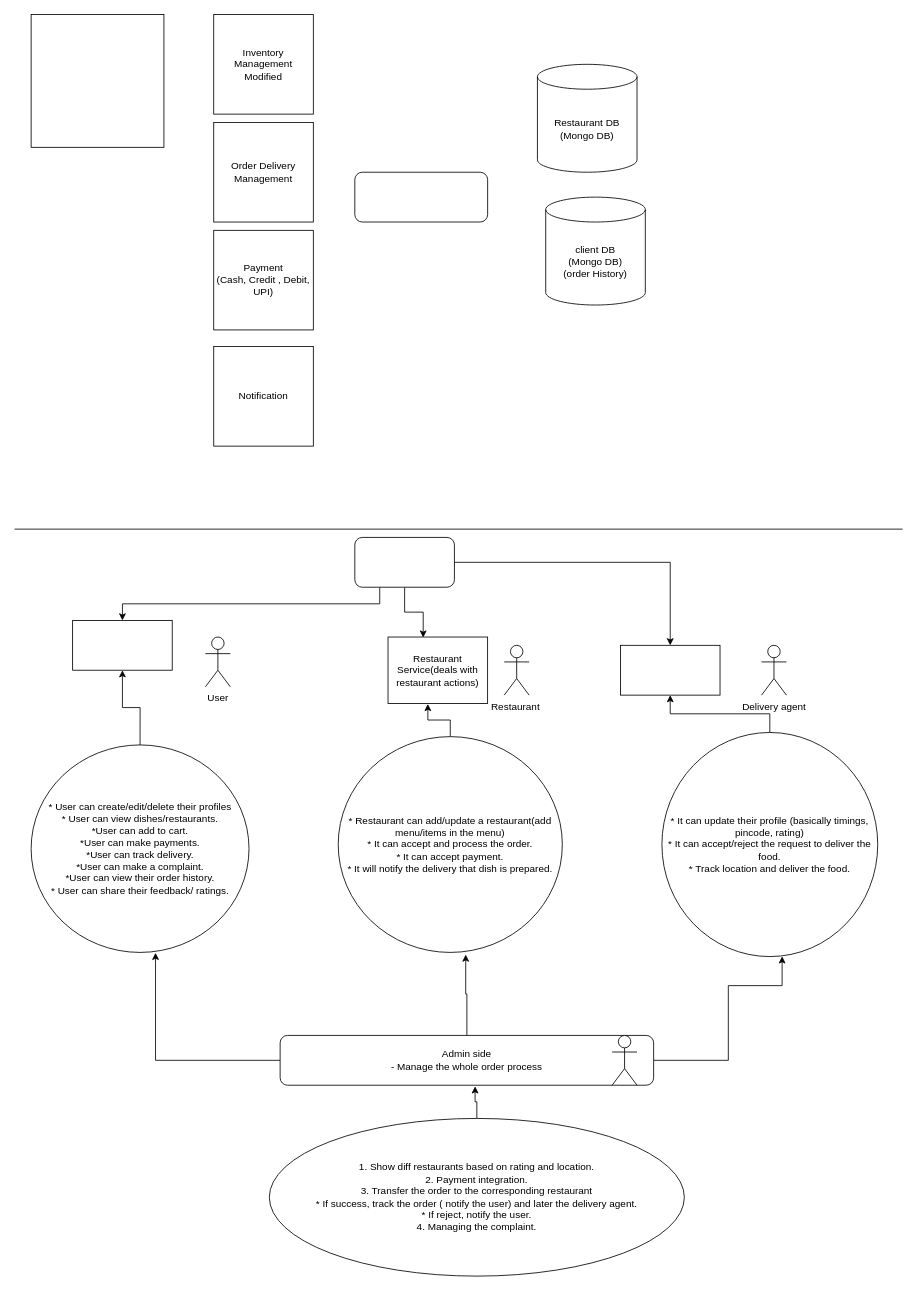
This 918x1291 diagram has some shape labels left out. Here are the shapes that lost their labels. From the top down, the centre of each, then its label:
At (x=97, y=80): "Food Delivery System (Client UI) (React.js)".
At (x=421, y=196): "Distributed Queues".
At (x=404, y=562): "Authentication(to distinguish between customer, restaurant, delivery agent)".
At (x=122, y=645): "User Service(deal with all user actions)".
At (x=670, y=669): "Delivery Service(deal with delivery related actions)".
At (x=624, y=1060): "Admin".
